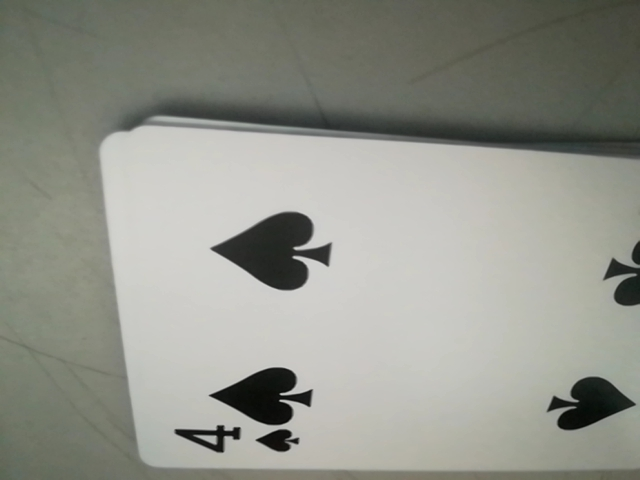ht 4: (162, 419, 316, 464)
